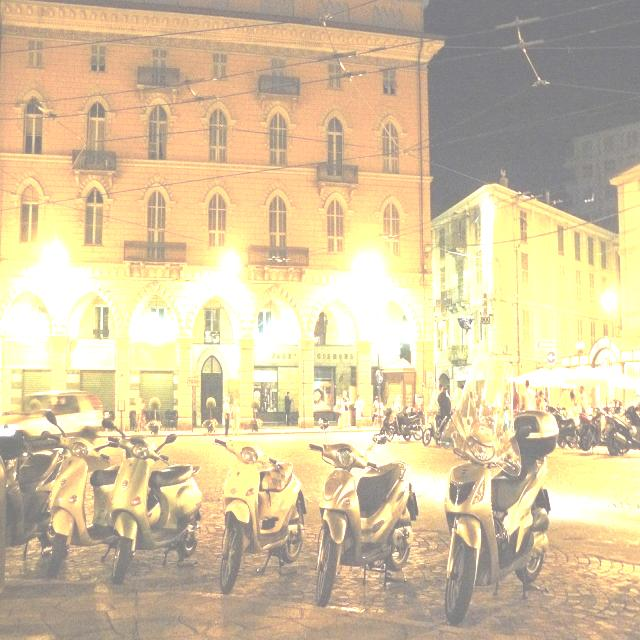Motorbike: (8, 400, 558, 640), (304, 432, 418, 609)
